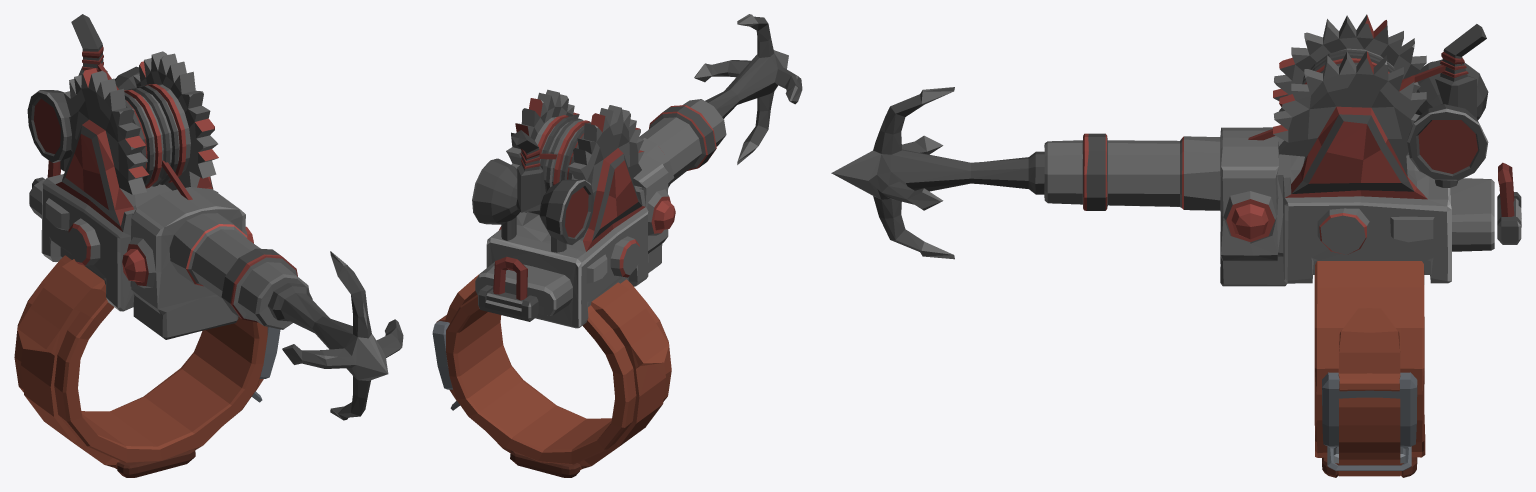
The model's file is VR_SP_Prop_GrappleHook_01a.glb.
The picture shows the model from 3 angles, left to right: view 1: azimuth 30°, elevation 25°; view 2: azimuth 150°, elevation 25°; view 3: azimuth 270°, elevation 25°; orthographic projection. The views are drawn at different scales.
Parts seen in each view (by area): view 1: VR_SP_Prop_GrappleHook_01a, VR_SP_Proop_Hook_01a; view 2: VR_SP_Prop_GrappleHook_01a, VR_SP_Proop_Hook_01a; view 3: VR_SP_Prop_GrappleHook_01a, VR_SP_Proop_Hook_01a.
Part boxes in pixels (<box>): VR_SP_Prop_GrappleHook_01a: <box>14,14,309,477</box>; VR_SP_Proop_Hook_01a: <box>268,251,403,420</box>; VR_SP_Prop_GrappleHook_01a: <box>432,89,726,477</box>; VR_SP_Proop_Hook_01a: <box>694,14,802,164</box>; VR_SP_Prop_GrappleHook_01a: <box>1044,14,1521,477</box>; VR_SP_Proop_Hook_01a: <box>831,87,1044,259</box>.
Size of the model in its own units: 0.0765 by 0.1235 by 0.1774.
Materials: 1 (1 with a texture image).
